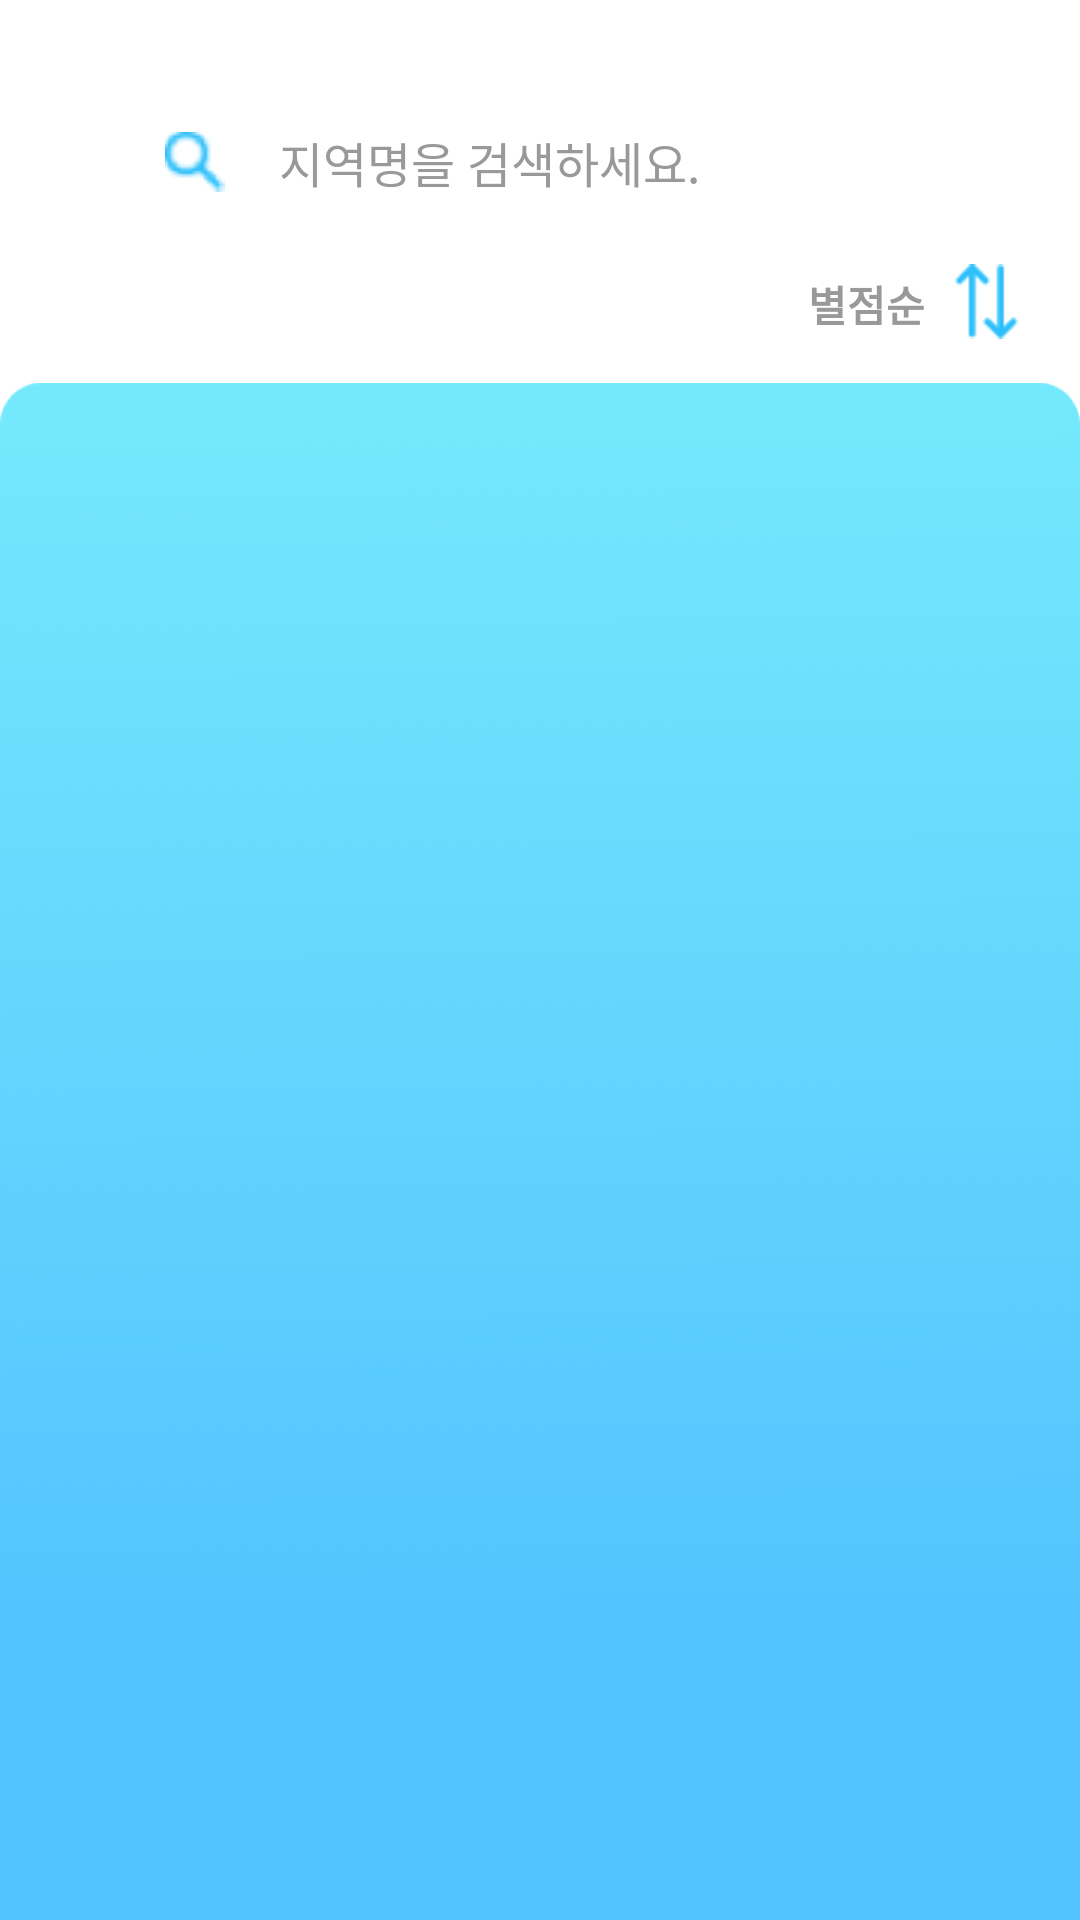

Icon bounding boxes for this 1080*1920 phone screenshot, format (x1, y1, x2, y2):
change: (955, 264, 1018, 339)
